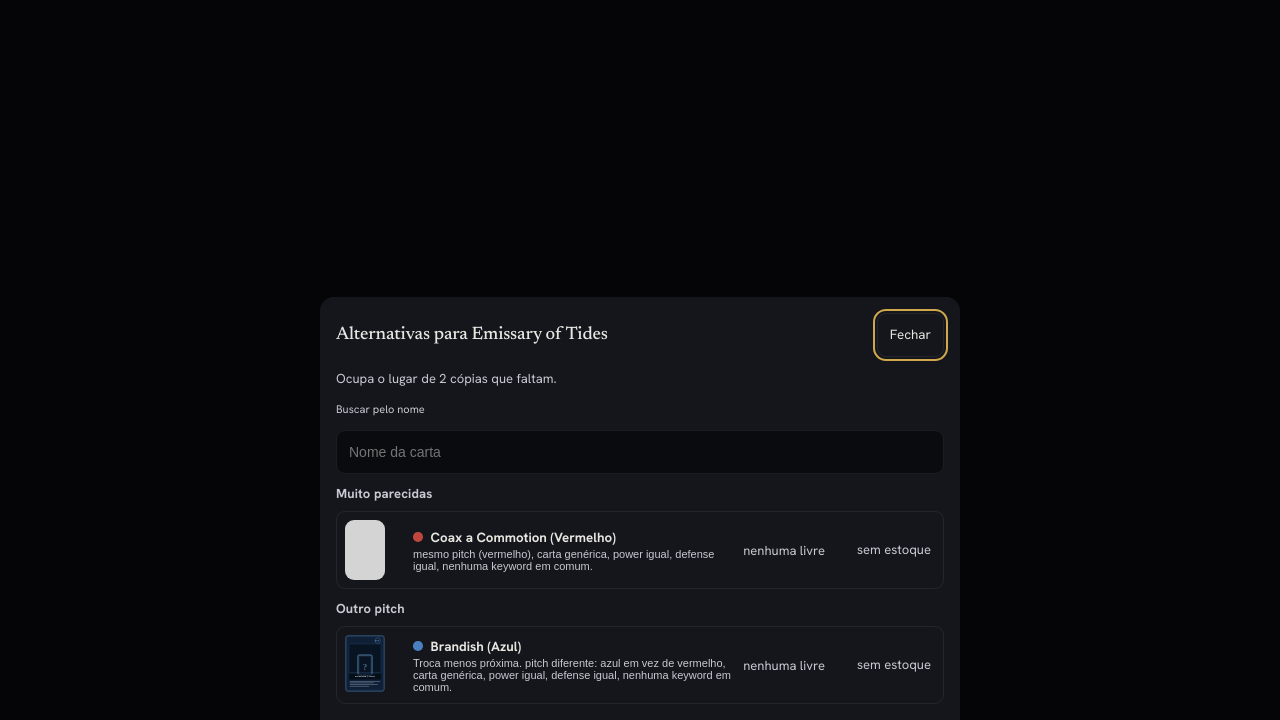
Test case: AlternativesSheet › picking › shows the localized 409 message: REPLACEMENT_NOT_ACTIVE
Expected: the element with test id "alternatives-group-very_close" is shown, [336, 486, 944, 589]
Click the button with aria-label "Usar Coax a Commotion (Vermelho) no lugar": (625,550) [405, 521, 845, 580]
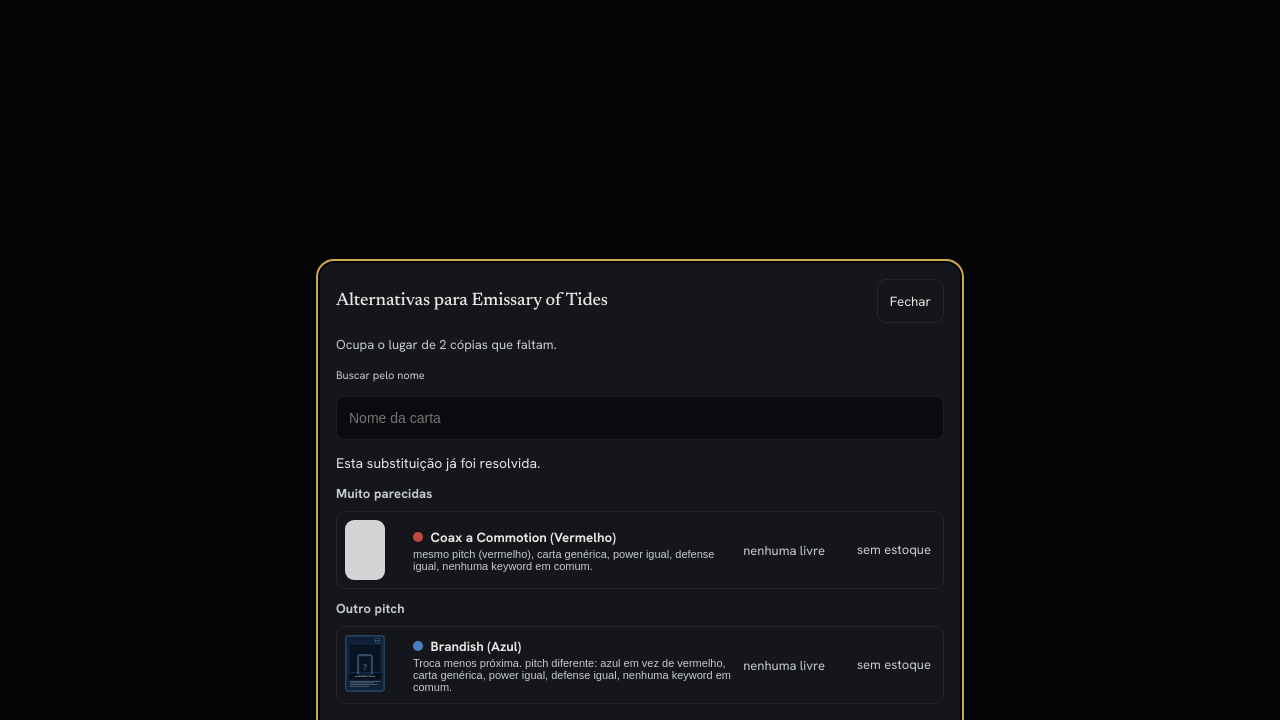
Expected: the message with test id "alternatives-pick-error" reads "Esta substituição já foi resolvida.", [336, 454, 540, 472]
